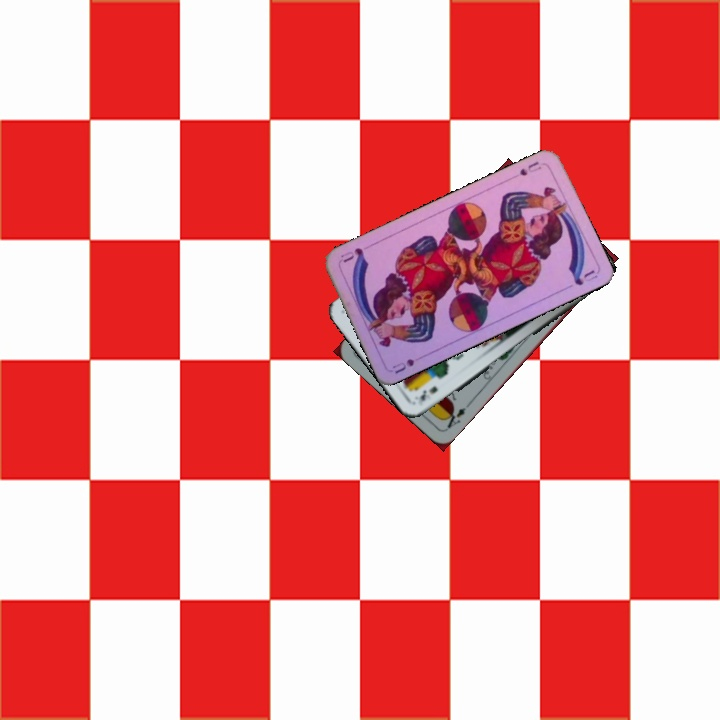EA: (440, 403, 469, 432)
EK: (416, 382, 440, 405)
SU: (388, 351, 428, 376), (515, 157, 544, 178)
